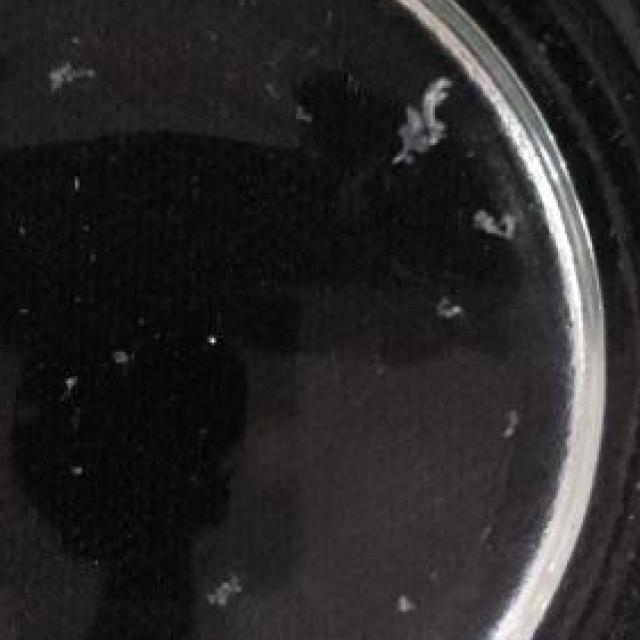Microplastic: (383, 48, 460, 176), (419, 274, 485, 340), (203, 538, 253, 623), (456, 202, 538, 248), (373, 578, 438, 628), (43, 43, 100, 100), (316, 621, 385, 640)
